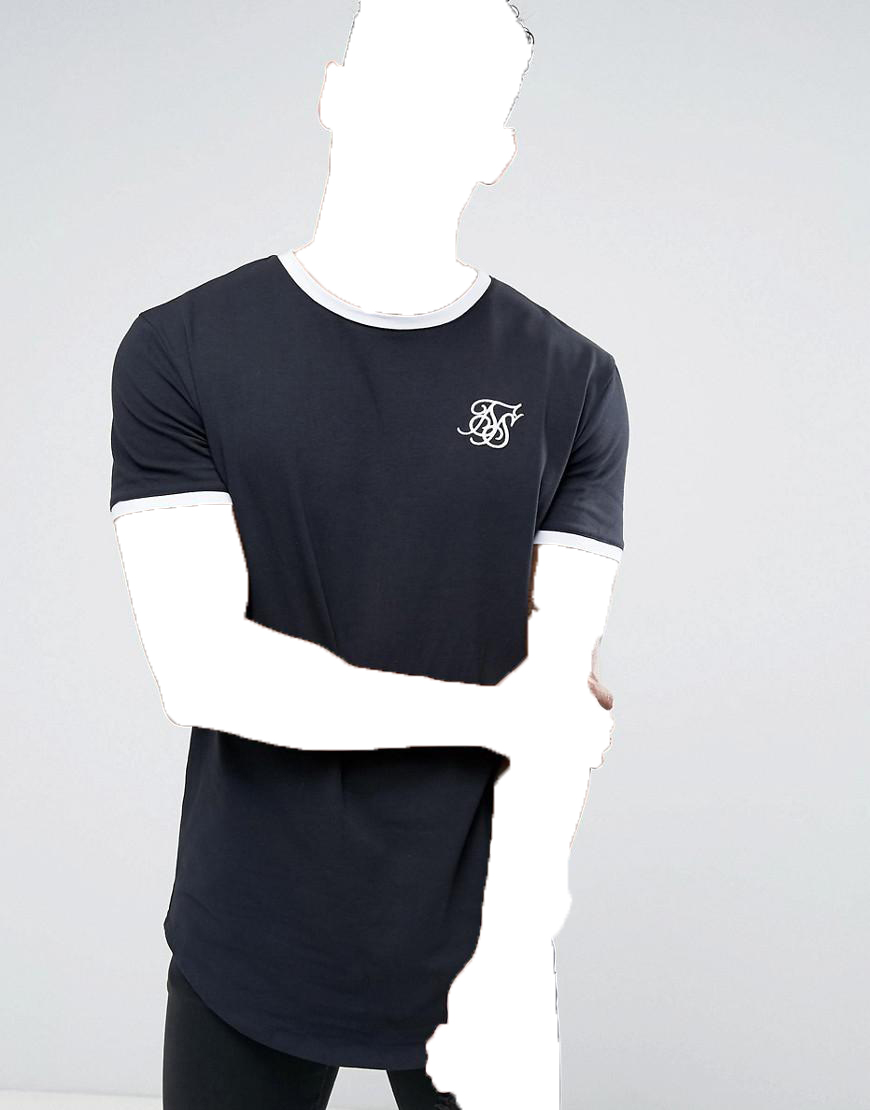teeshirt: (96, 247, 637, 1086)
